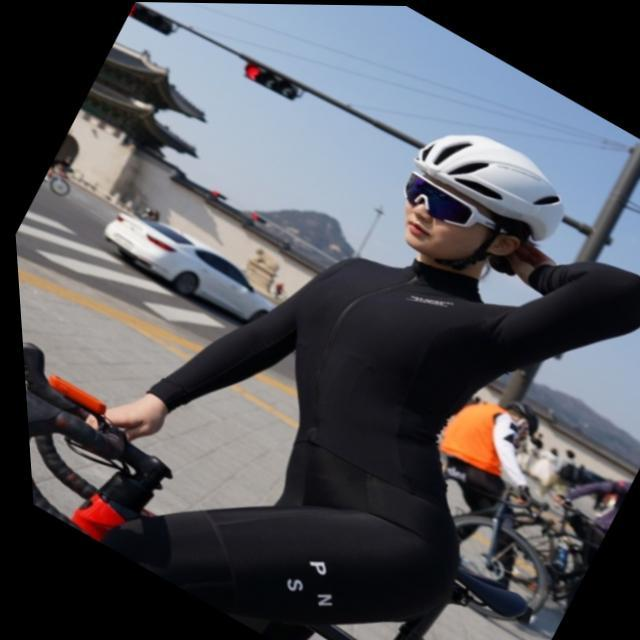Helmet: (389, 121, 572, 272)
